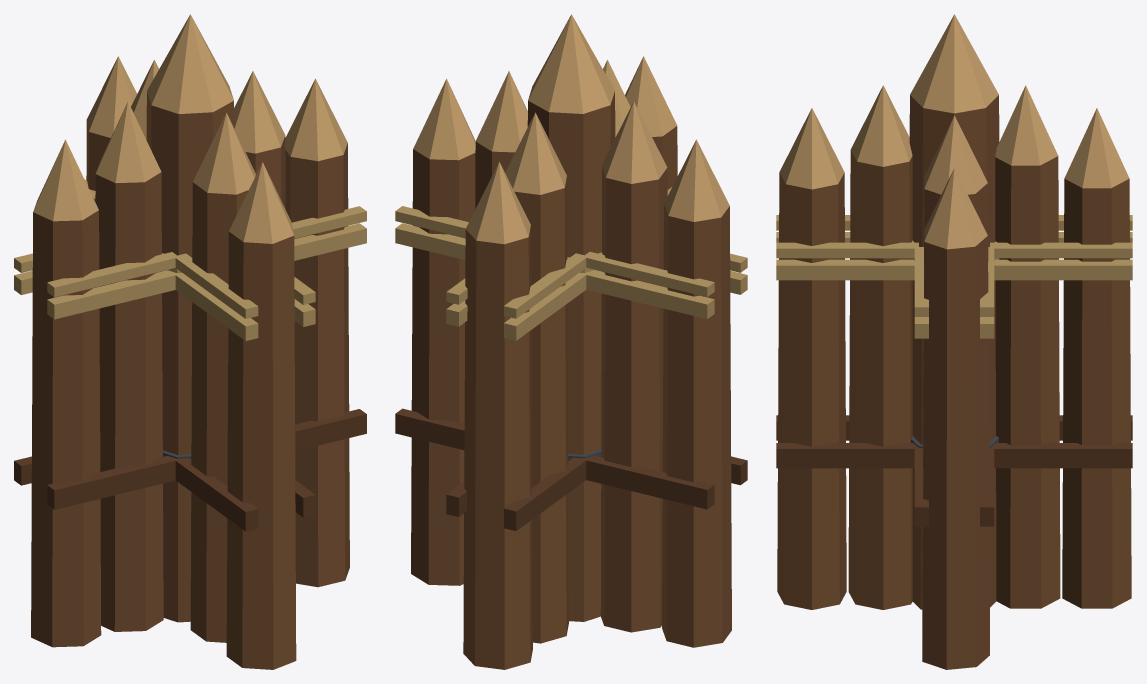
File: palisade_cross.glb
The picture shows the model from 3 angles, left to right: view 1: azimuth 30°, elevation 25°; view 2: azimuth 150°, elevation 25°; view 3: azimuth 270°, elevation 25°; orthographic projection.
Parts seen in each view (by area): view 1: wall_palisade_cross; view 2: wall_palisade_cross; view 3: wall_palisade_cross.
Part boxes in pixels (x1,y1,x2,y2): wall_palisade_cross: (14, 14, 366, 669); wall_palisade_cross: (395, 14, 747, 669); wall_palisade_cross: (776, 14, 1132, 669).
Bounding box in the file's own units: 2 × 3.6 × 2.
